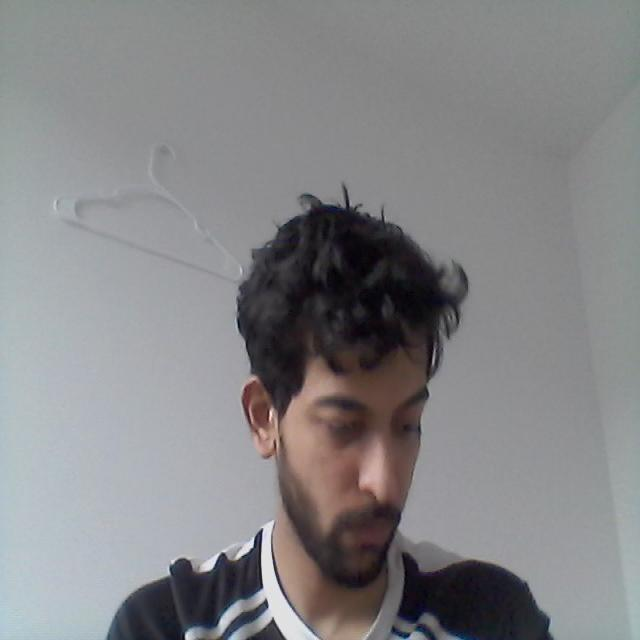nocap: (200, 162, 487, 402)
